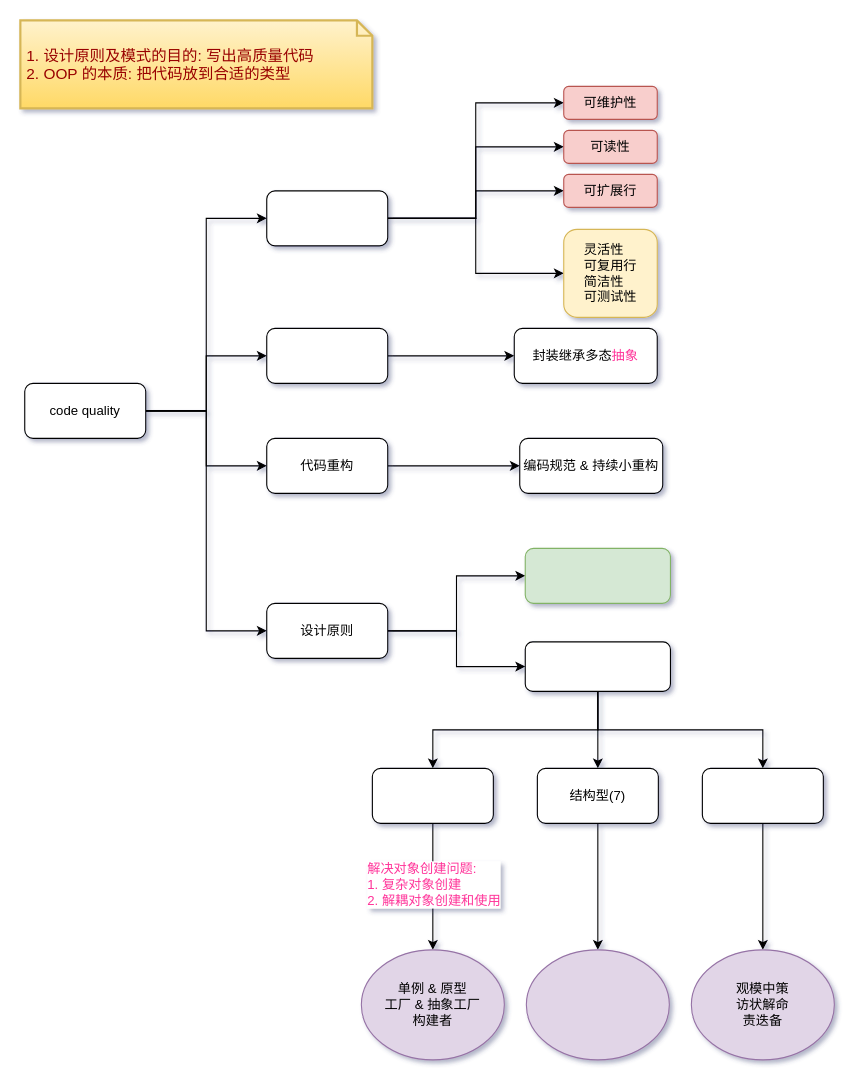
This 860x1086 diagram has some shape labels left out. The shapes that lost their labels are listed below. From the top down, each one's box as (x1, y1, x2, y2) in pixels, then its label:
(266, 190, 388, 246): 高质量代码
(266, 327, 388, 383): 面向对象
(524, 547, 670, 603): solid + lod + dry + kiss yagni +合成复用
(524, 641, 670, 691): 设计模式: 23
(371, 767, 493, 823): 创建型(5)
(701, 767, 823, 823): 行为型(11)
(525, 949, 669, 1060): 代理 适配器 &装饰器 桥接 & 享元 外观 & 组合
